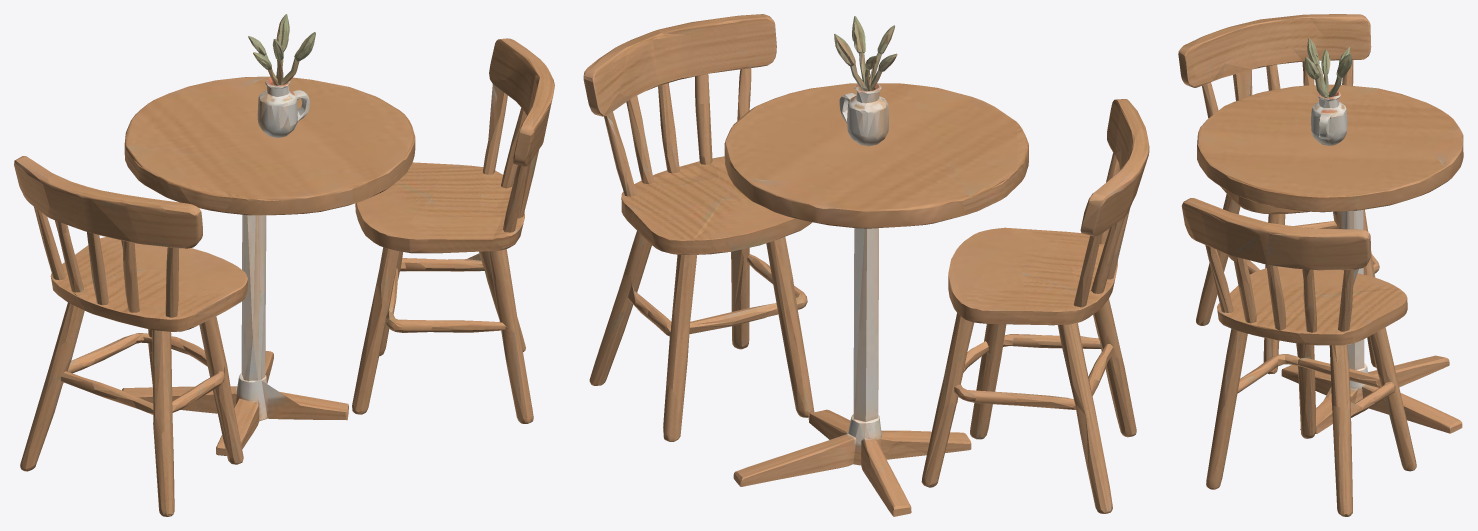
Rendered from table_two.glb.
3 renders of one model, left to right at view 1: azimuth 30°, elevation 25°; view 2: azimuth 150°, elevation 25°; view 3: azimuth 270°, elevation 25°, orthographic. The views are drawn at different scales.
Size of the model in its own units: 1.9 by 1.43 by 1.02.
Materials: 1 (1 with a texture image).
